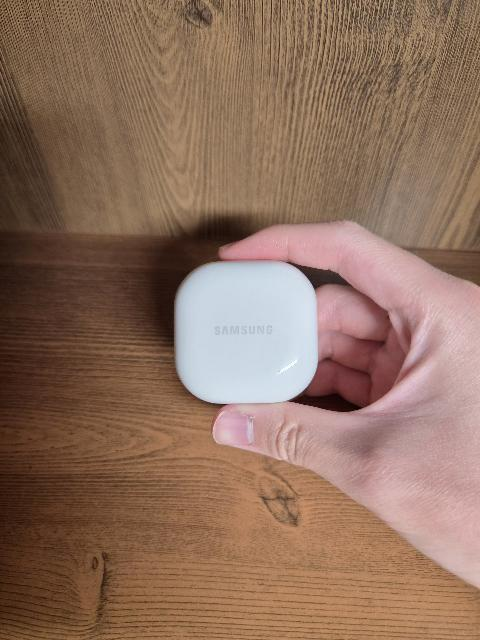earphone_case: (174, 259, 319, 404)
